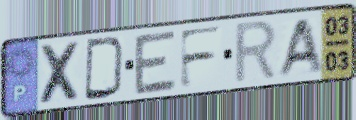A: (274, 15, 325, 80)
D: (83, 35, 128, 102)
E: (133, 28, 179, 98)
F: (177, 23, 224, 92)
R: (232, 17, 280, 88)
X: (37, 39, 85, 107)
